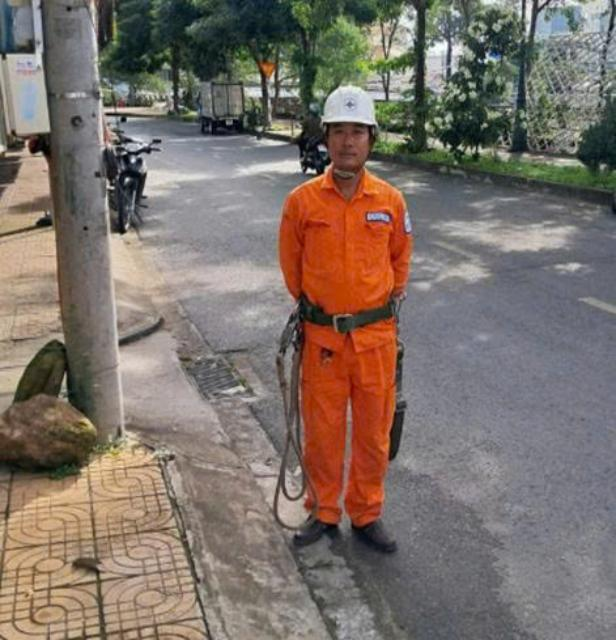harness: (288, 289, 409, 343)
helmet: (314, 88, 400, 138)
shoes: (271, 507, 346, 553), (353, 507, 404, 562)
